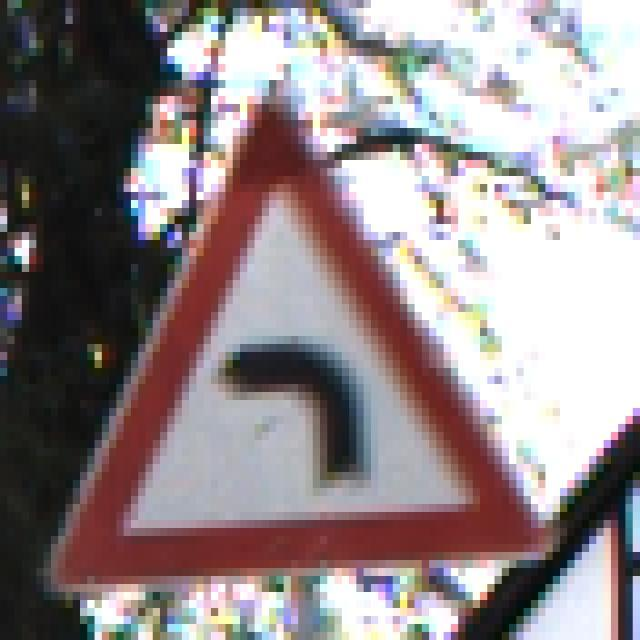left hand curve: (45, 100, 552, 571)
